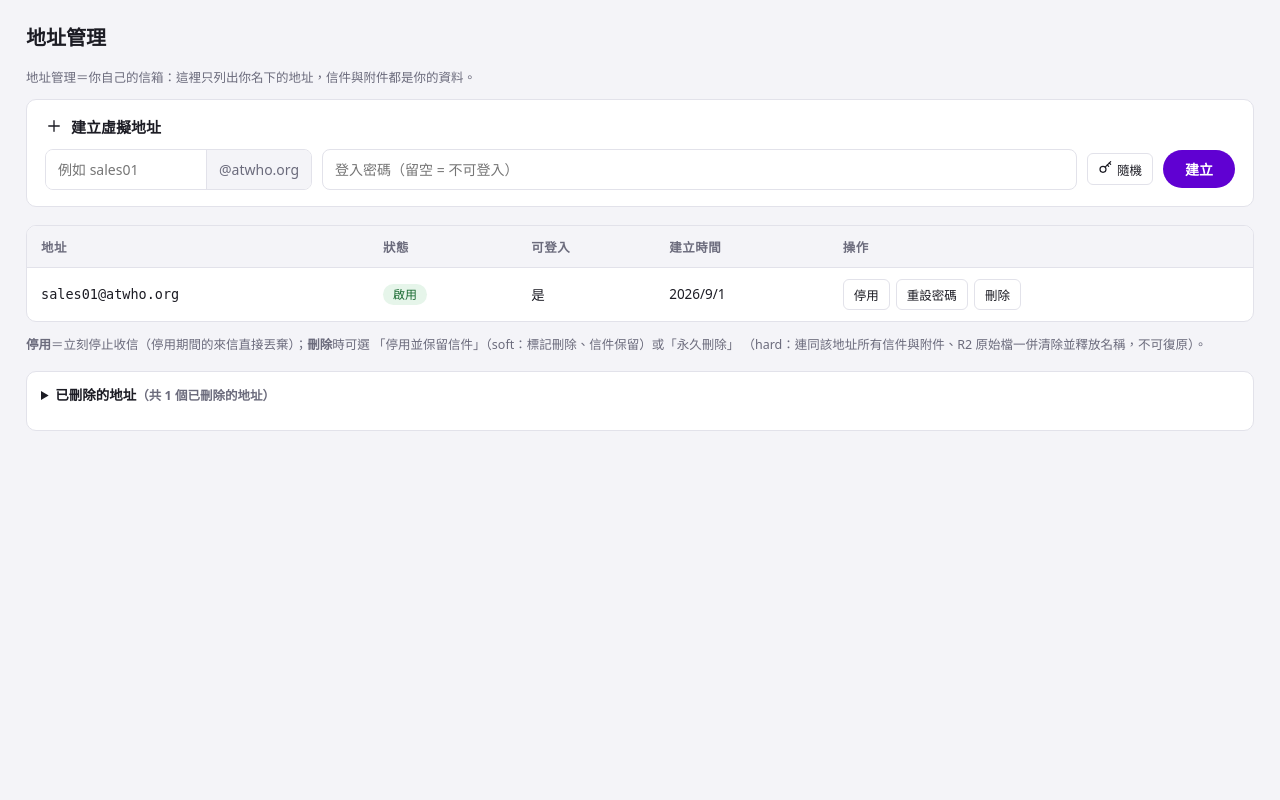
Scenario: T33-2（D11-3）：刪除地址的兩選項對話框 › 兩個選項（soft／hard）都在，且 hard 附「不可復原」警語
Note: 現存地址列（不是垃圾桶列）的「刪除」
Click the button "刪除": (997,294) [974,278,1021,310]
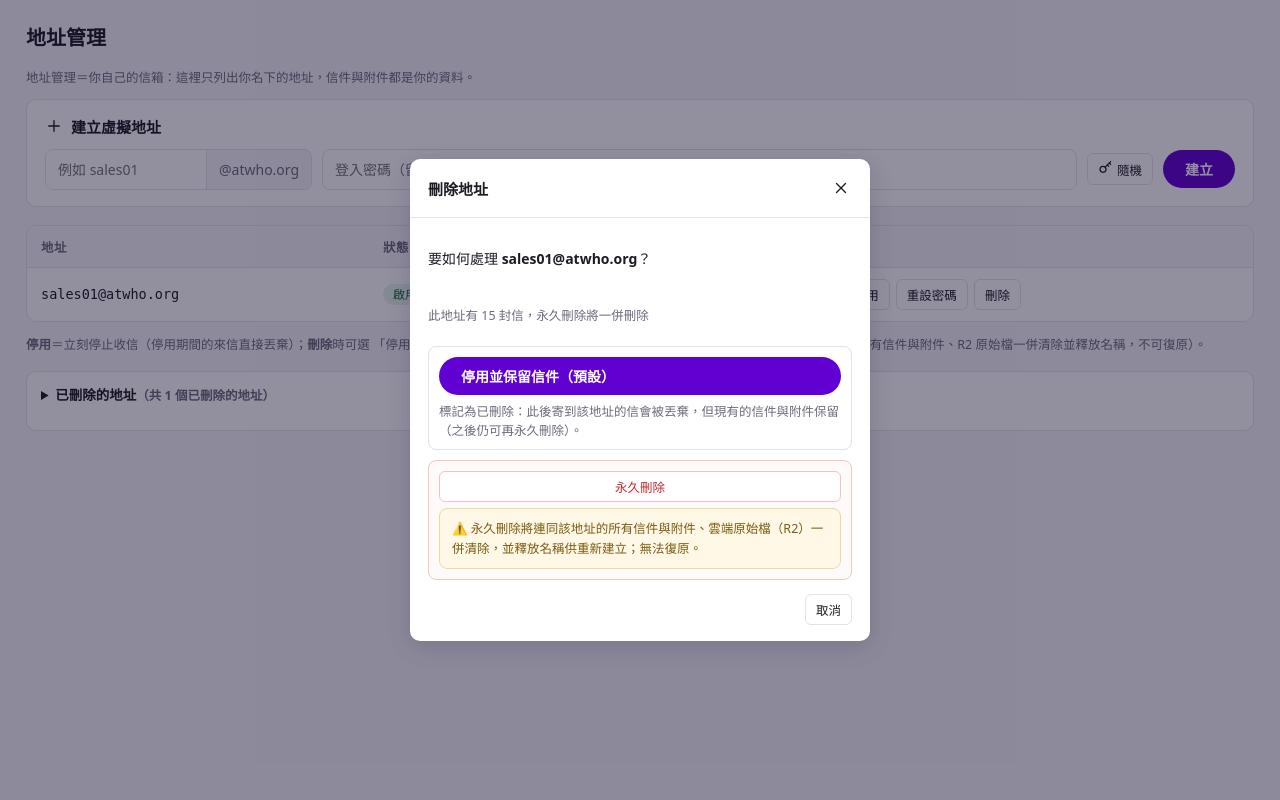
Now the button "停用並保留信件（預設）" is shown, box [439,357,841,395]
Now the text "標記為已刪除：此後寄到該地址的信會被丟棄，但現有的信件與附件保留（之後仍可再永久刪除）。" is shown, box [439,401,841,439]
Now the button "永久刪除" is shown, box [439,471,841,502]
